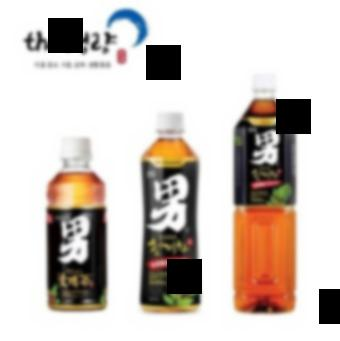heotgaecha: (137, 106, 204, 316)
